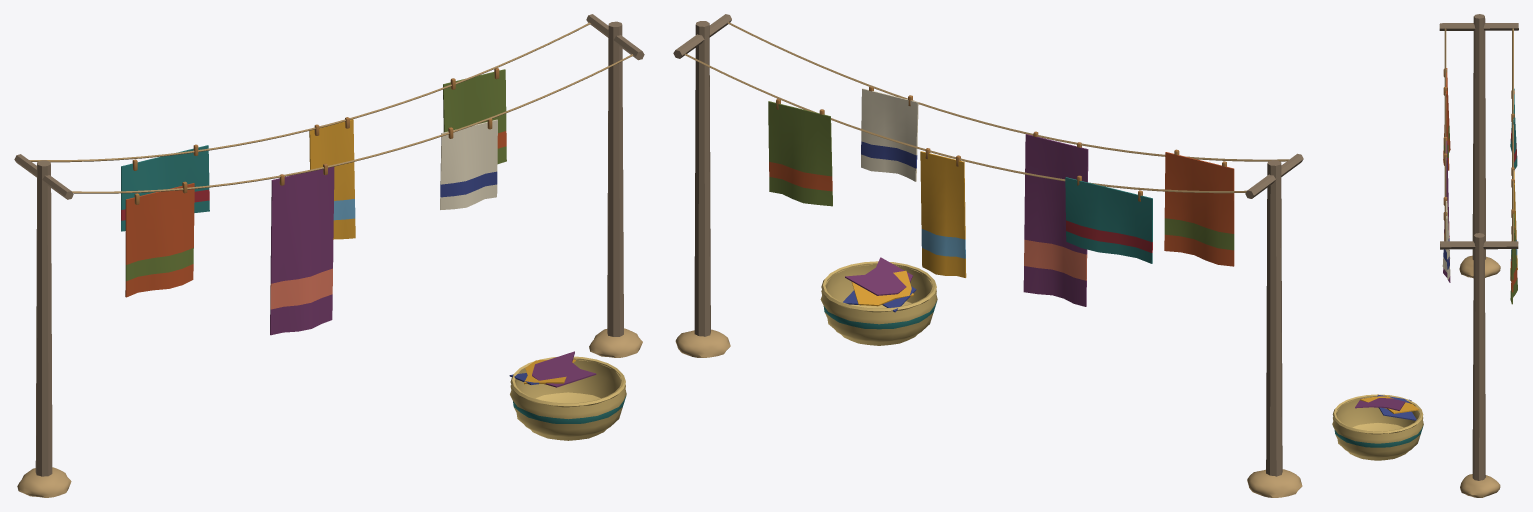
The model's file is deco_laundry_line.fbx.
3 renders of one model, left to right at view 1: azimuth 30°, elevation 25°; view 2: azimuth 150°, elevation 25°; view 3: azimuth 270°, elevation 25°, orthographic. The views are drawn at different scales.
Visible parts, largest first — view 1: LaundryLine_Posts, LaundryLine_Cloth2, LaundryLine_Basket, LaundryLine_Cloth1, LaundryLine_Cloth3, LaundryLine_Cloth4, LaundryLine_Cloth5, LaundryLine_Cloth6, LaundryLine_Lines; view 2: LaundryLine_Posts, LaundryLine_Cloth2, LaundryLine_Basket, LaundryLine_Cloth1, LaundryLine_Cloth6, LaundryLine_Cloth4, LaundryLine_Cloth5, LaundryLine_Cloth3, LaundryLine_Lines; view 3: LaundryLine_Posts, LaundryLine_Basket, LaundryLine_Lines, LaundryLine_Cloth6, LaundryLine_Cloth1, LaundryLine_Cloth3, LaundryLine_Cloth2, LaundryLine_Cloth4, LaundryLine_Cloth5.
Boxes of the visible parts, box(x1,y1,x2,y2) form: LaundryLine_Posts: box(14, 14, 644, 497); LaundryLine_Cloth2: box(270, 163, 334, 335); LaundryLine_Basket: box(509, 351, 626, 440); LaundryLine_Cloth1: box(125, 181, 194, 297); LaundryLine_Cloth3: box(440, 118, 497, 209); LaundryLine_Cloth4: box(121, 144, 209, 231); LaundryLine_Cloth5: box(309, 117, 355, 239); LaundryLine_Cloth6: box(443, 68, 506, 163); LaundryLine_Lines: box(29, 22, 633, 193); LaundryLine_Posts: box(673, 14, 1303, 497); LaundryLine_Cloth2: box(1023, 131, 1088, 306); LaundryLine_Basket: box(820, 257, 937, 345); LaundryLine_Cloth1: box(1164, 149, 1234, 266); LaundryLine_Cloth6: box(768, 98, 832, 206); LaundryLine_Cloth4: box(1065, 175, 1152, 263); LaundryLine_Cloth5: box(920, 148, 966, 277); LaundryLine_Cloth3: box(861, 86, 918, 181); LaundryLine_Lines: box(684, 22, 1288, 193); LaundryLine_Posts: box(1439, 14, 1518, 497); LaundryLine_Basket: box(1332, 394, 1423, 460); LaundryLine_Lines: box(1444, 28, 1513, 241); LaundryLine_Cloth6: box(1510, 209, 1517, 304); LaundryLine_Cloth1: box(1443, 68, 1450, 170); LaundryLine_Cloth3: box(1442, 197, 1450, 279); LaundryLine_Cloth2: box(1443, 136, 1450, 282); LaundryLine_Cloth4: box(1510, 88, 1517, 169); LaundryLine_Cloth5: box(1510, 167, 1517, 276).
Bounding box in the file's own units: 499 × 251 × 166.
